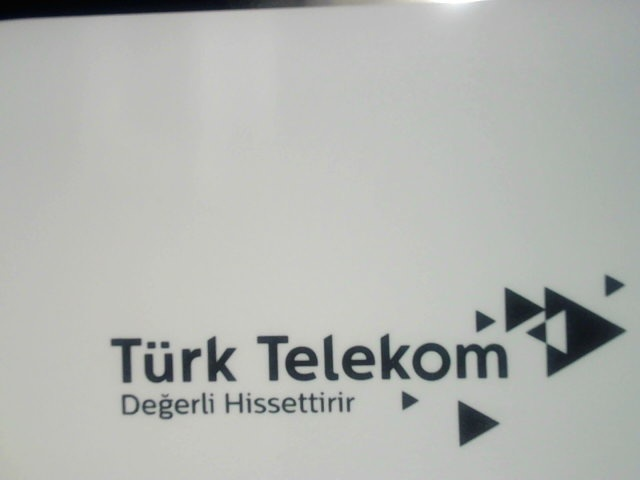AQ_TURKTelekom: (97, 271, 629, 458)
